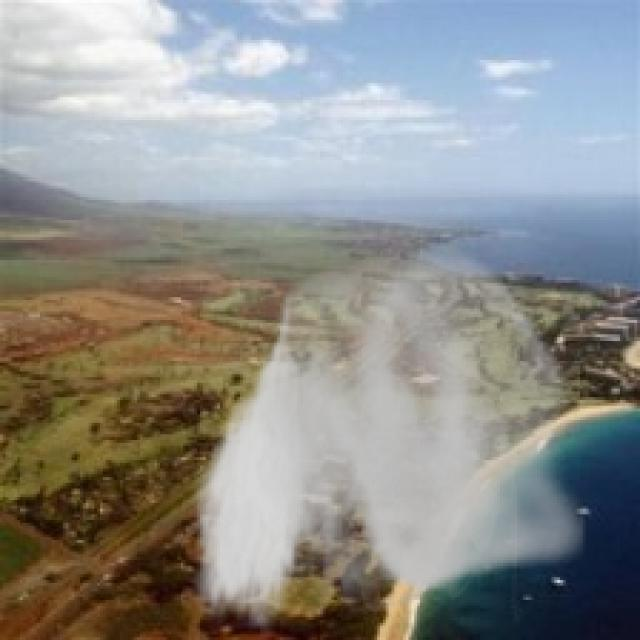smoke: (188, 237, 586, 637)
